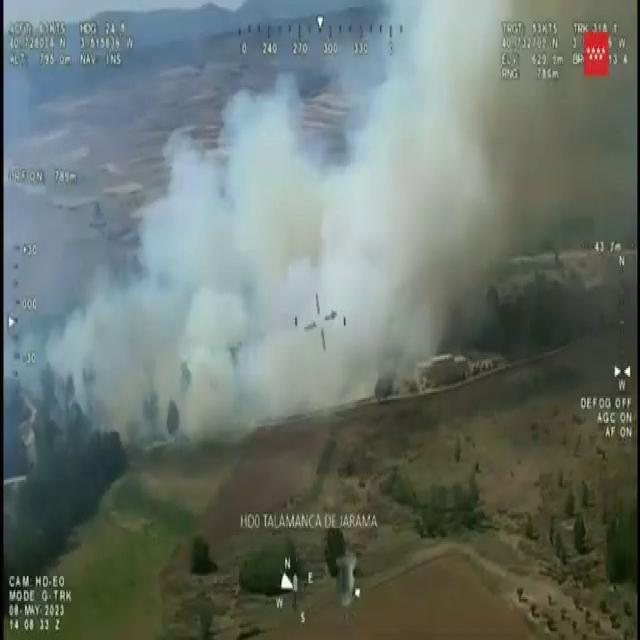Smoke: (51, 12, 548, 444)
